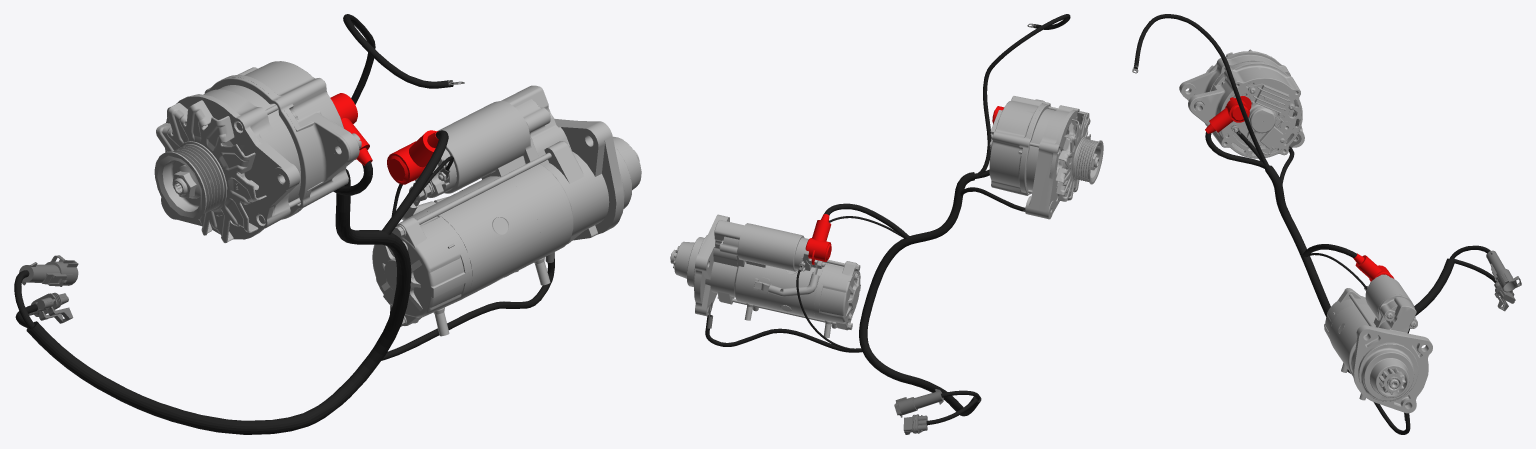
The model's file is harness.glb.
3 renders of one model, left to right at view 1: azimuth 30°, elevation 25°; view 2: azimuth 150°, elevation 25°; view 3: azimuth 270°, elevation 25°, orthographic. The views are drawn at different scales.
Parts seen in each view (by area): view 1: TULKA_PRT, T9_STARTER_R_TERM_, 7405398_PRT (×2); view 2: TULKA_PRT, T9_STARTER_R_TERM_, 7405398_PRT; view 3: TULKA_PRT, T9_STARTER_R_TERM_, 7405398_PRT (×2).
Boxes of the visible parts, x1,y1,x2,y2 form: TULKA_PRT: (19, 61, 641, 336); T9_STARTER_R_TERM_: (14, 14, 554, 434); 7405398_PRT (×2): (330, 93, 438, 184); TULKA_PRT: (670, 96, 1103, 434); T9_STARTER_R_TERM_: (705, 14, 1070, 425); 7405398_PRT: (805, 214, 831, 264); TULKA_PRT: (1179, 49, 1521, 413); T9_STARTER_R_TERM_: (1133, 14, 1496, 434); 7405398_PRT (×2): (1205, 96, 1394, 281).
Bounding box in the file's own units: 0.6068 × 0.5232 × 0.5672.
